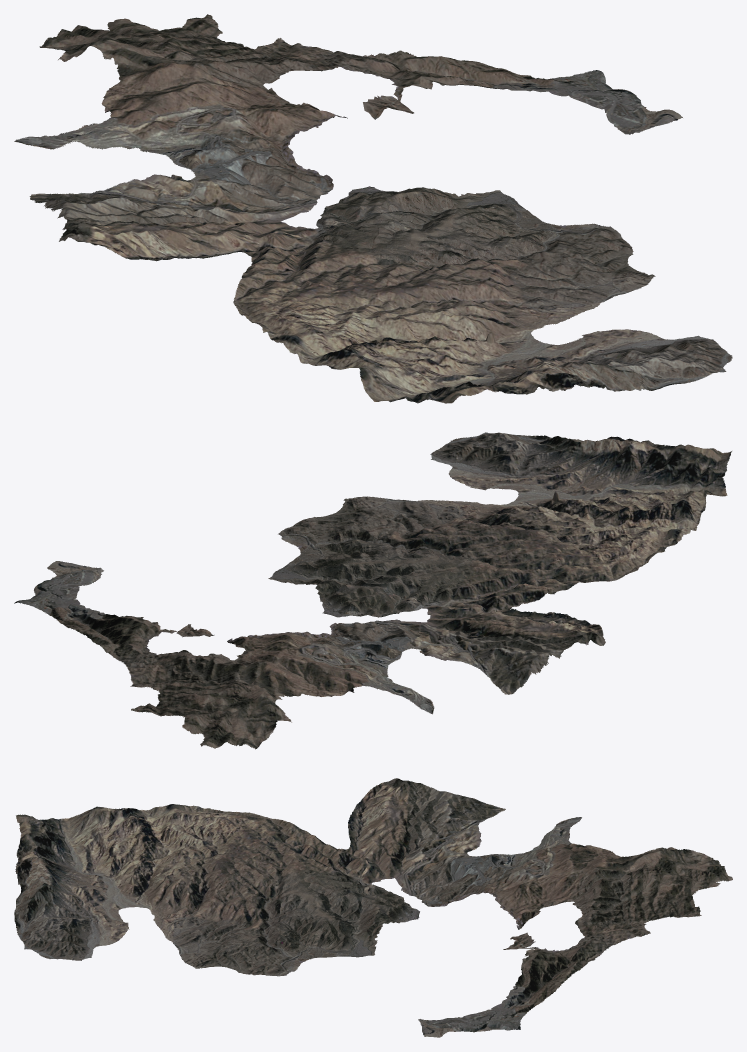
The model's file is MOD_BG_Mountains.fbx.
3 renders of one model, top to bottom at view 1: azimuth 30°, elevation 25°; view 2: azimuth 150°, elevation 25°; view 3: azimuth 270°, elevation 25°, orthographic. The views are drawn at different scales.
Parts seen in each view (by area): view 1: MOD_BG_mountains; view 2: MOD_BG_mountains; view 3: MOD_BG_mountains.
Boxes of the visible parts, x1,y1,x2,y2 form: MOD_BG_mountains: (14, 14, 732, 403); MOD_BG_mountains: (14, 432, 731, 749); MOD_BG_mountains: (14, 778, 732, 1037).
Size of the model in its own units: 850773 by 79910 by 1150300.
Materials: 1 (1 with a texture image).
